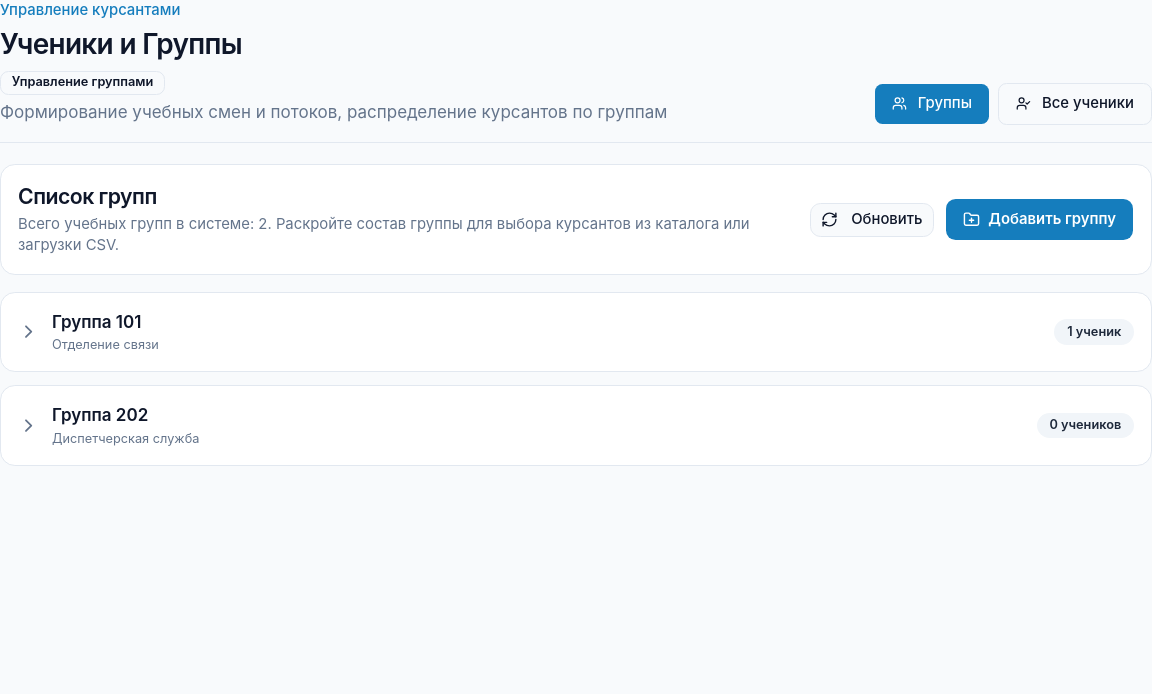
Test: 27.1 / ТЗ 29: Рефакторинг управления группами и учениками › should remove student from group with confirmation dialog warning about preserved account and history
# Expand group 101
Click the text "Группа 101".
click(97, 322)  # box [52,310,141,335]
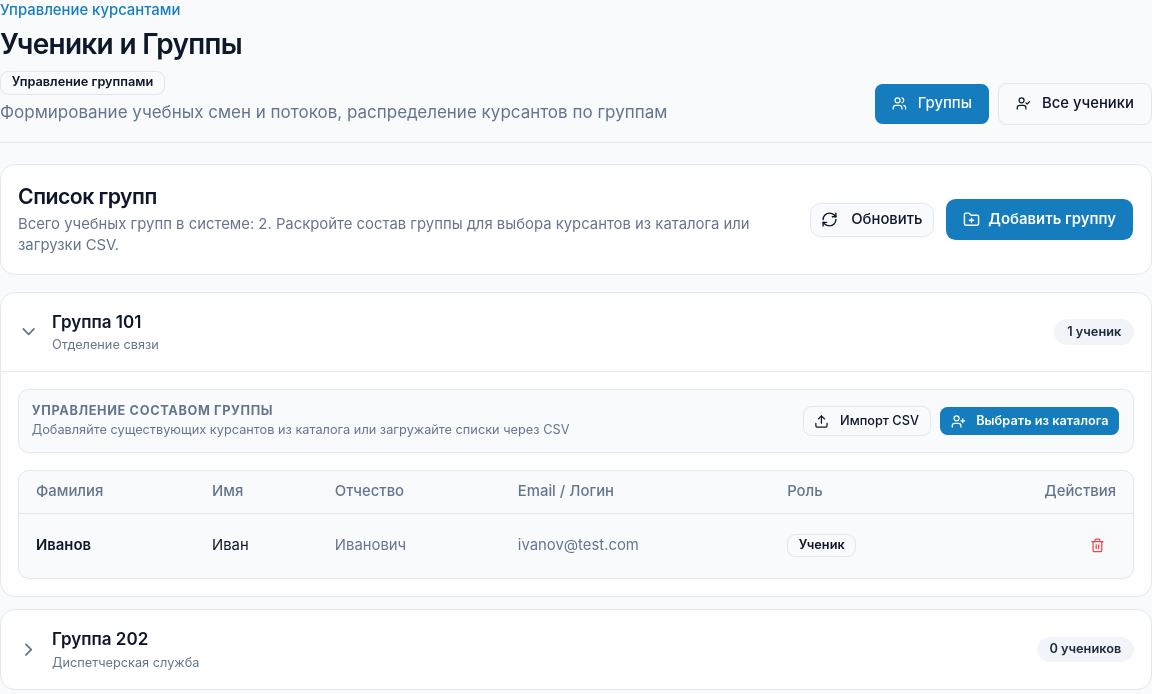
expect the text "Иванов" is shown: met, box [19,513,195,578]
# Click remove button (trash icon)
Click the button titled "Исключить из группы".
click(1097, 546)  # box [1078,531,1116,561]
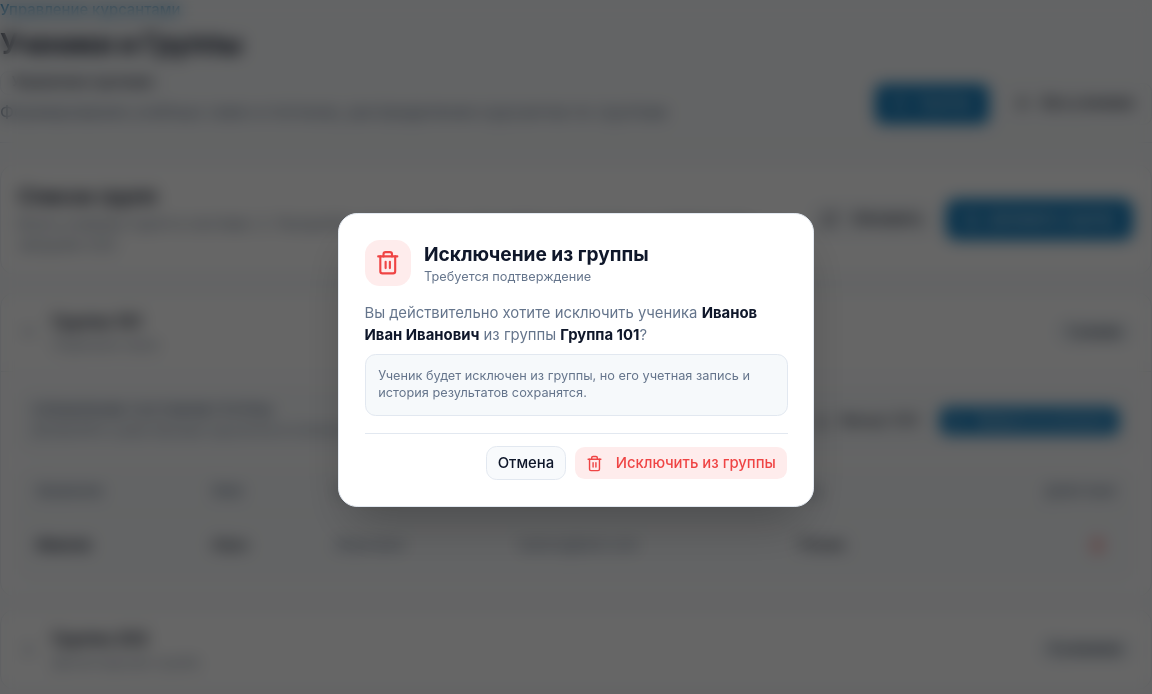
expect the heading "Исключение из группы" is shown: met, box [424,240,649,269]
expect the text "Ученик будет исключен из группы, но его учетная запись и история результатов сохранятся" is shown: met, box [378,368,750,400]
# Confirm removal
Click the button "Исключить из группы".
click(681, 464)  # box [574,446,788,480]
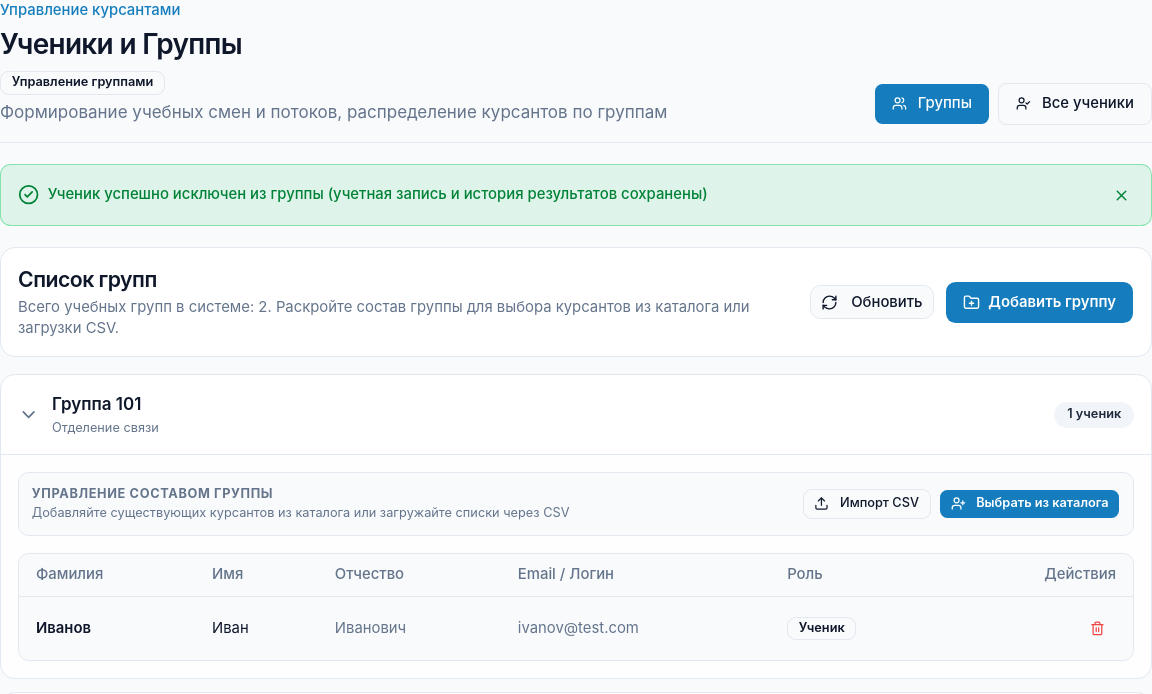
expect the text "Ученик успешно исключен из группы" is shown: met, box [48,186,708,204]
